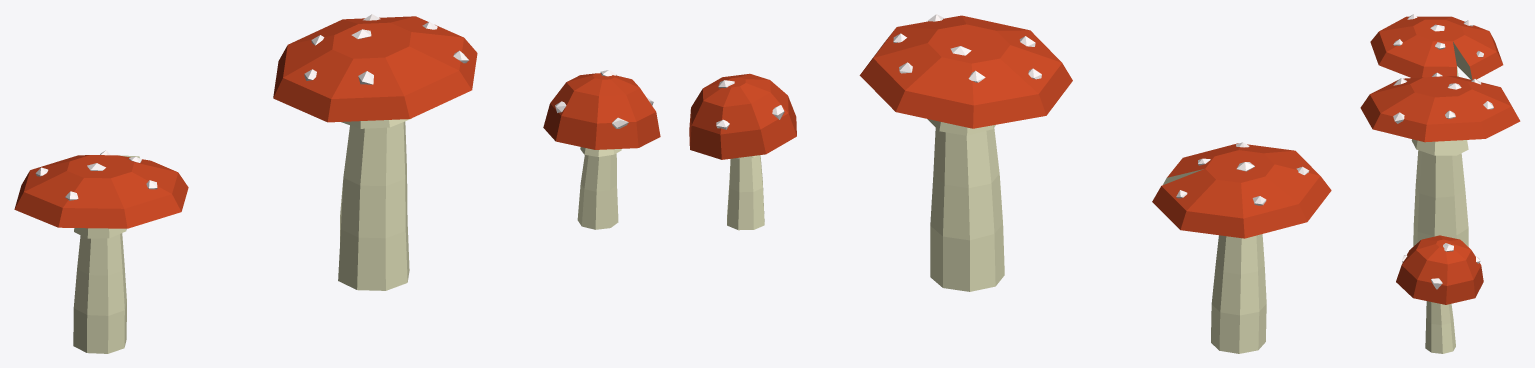
Rendered from low_poly_mushrooms_1.glb.
The picture shows the model from 3 angles, left to right: view 1: azimuth 30°, elevation 25°; view 2: azimuth 150°, elevation 25°; view 3: azimuth 270°, elevation 25°; orthographic projection. The views are drawn at different scales.
Visible parts, largest first — view 1: Circle, Icosphere.006, Circle.002; view 2: Circle, Icosphere.006, Circle.002; view 3: Circle, Icosphere.006, Circle.002.
Part boxes in pixels (x1,y1,x2,y2): Circle: [273, 14, 477, 290]; Icosphere.006: [14, 150, 188, 353]; Circle.002: [543, 70, 660, 229]; Circle: [859, 14, 1072, 291]; Icosphere.006: [1152, 142, 1331, 353]; Circle.002: [689, 73, 796, 230]; Circle: [1360, 72, 1520, 246]; Icosphere.006: [1370, 14, 1503, 79]; Circle.002: [1396, 235, 1483, 353].
Bounding box in the file's own units: 110 × 40.21 × 32.25.
